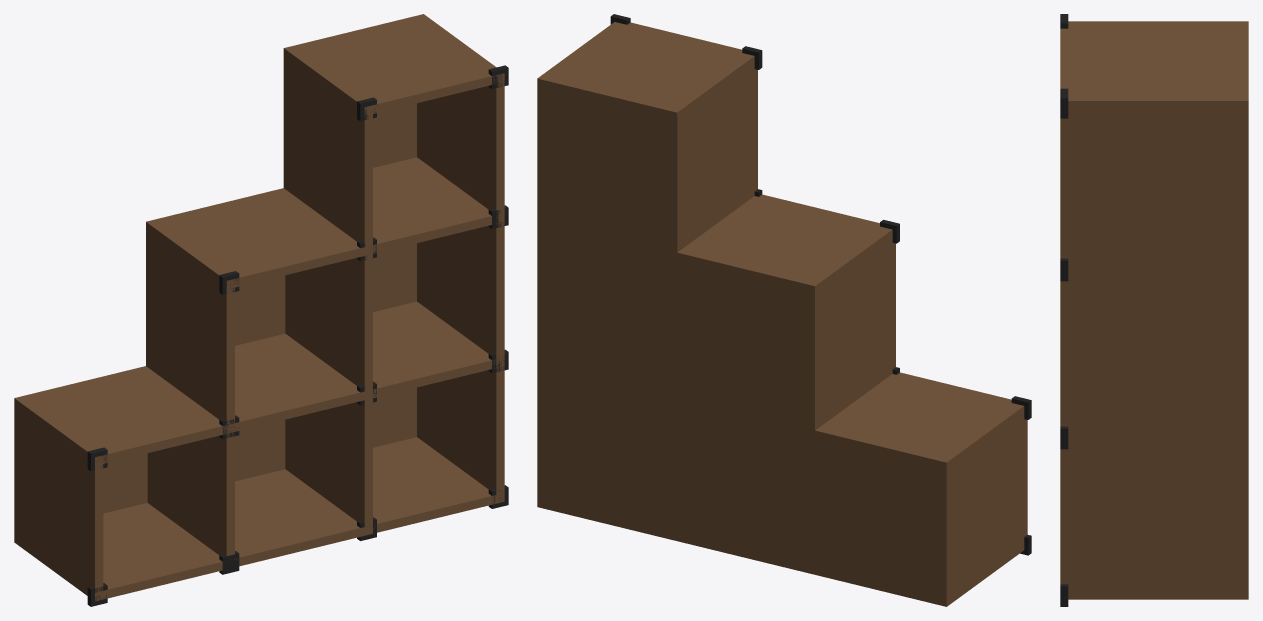
3 views of the same model, side by side, from view 1: azimuth 30°, elevation 25°; view 2: azimuth 150°, elevation 25°; view 3: azimuth 270°, elevation 25° (orthographic). The views are drawn at different scales.
Parts seen in each view (by area): view 1: 9 mid_right_vertical_panel, 10 far_right_vertical_panel, 1 bottom_base_panel, 8 left_mid_vertical_panel, 3 lower_mid_right_shelf_panel, 7 far_left_vertical_panel, 6 top_cube_top_panel, 2 left_cube_top_panel, 4 mid_cube_top_panel, 5 upper_right_shelf_panel, 13 right_column_back_panel, 12 middle_column_back_panel (+1 smaller); view 2: 13 right_column_back_panel, 12 middle_column_back_panel, 11 left_column_back_panel, 8 left_mid_vertical_panel, 9 mid_right_vertical_panel, 7 far_left_vertical_panel, 2 left_cube_top_panel, 6 top_cube_top_panel, 4 mid_cube_top_panel, 10 far_right_vertical_panel, 1 bottom_base_panel, 3 lower_mid_right_shelf_panel (+1 smaller); view 3: 10 far_right_vertical_panel, 6 top_cube_top_panel, 3 lower_mid_right_shelf_panel, 1 bottom_base_panel, 5 upper_right_shelf_panel, 13 right_column_back_panel, 9 mid_right_vertical_panel, 26 connector_row3_2.
Boxes of the visible parts, <box> form: 9 mid_right_vertical_panel: <box>283,47,372,535</box>; 10 far_right_vertical_panel: <box>417,15,504,503</box>; 1 bottom_base_panel: <box>14,437,504,601</box>; 8 left_mid_vertical_panel: <box>146,220,234,556</box>; 3 lower_mid_right_shelf_panel: <box>233,301,504,432</box>; 7 far_left_vertical_panel: <box>14,396,103,600</box>; 6 top_cube_top_panel: <box>286,14,504,115</box>; 2 left_cube_top_panel: <box>14,366,232,465</box>; 4 mid_cube_top_panel: <box>155,188,368,288</box>; 5 upper_right_shelf_panel: <box>367,157,504,254</box>; 13 right_column_back_panel: <box>292,14,424,447</box>; 12 middle_column_back_panel: <box>154,188,285,481</box>; 13 right_column_back_panel: <box>537,77,674,540</box>; 12 middle_column_back_panel: <box>675,251,811,564</box>; 11 left_column_back_panel: <box>812,431,948,606</box>; 8 left_mid_vertical_panel: <box>806,227,895,574</box>; 9 mid_right_vertical_panel: <box>669,55,757,539</box>; 7 far_left_vertical_panel: <box>938,404,1027,606</box>; 2 left_cube_top_panel: <box>810,372,1024,470</box>; 6 top_cube_top_panel: <box>537,22,752,120</box>; 4 mid_cube_top_panel: <box>675,194,887,291</box>; 10 far_right_vertical_panel: <box>537,22,620,506</box>; 1 bottom_base_panel: <box>537,498,1024,606</box>; 3 lower_mid_right_shelf_panel: <box>537,363,806,436</box>; 10 far_right_vertical_panel: <box>1060,96,1248,599</box>; 6 top_cube_top_panel: <box>1060,22,1248,110</box>; 3 lower_mid_right_shelf_panel: <box>1068,431,1248,441</box>; 1 bottom_base_panel: <box>1068,589,1248,599</box>; 5 upper_right_shelf_panel: <box>1068,263,1248,273</box>; 13 right_column_back_panel: <box>1244,24,1248,597</box>; 9 mid_right_vertical_panel: <box>1068,21,1248,26</box>; 26 connector_row3_2: <box>1060,88,1068,118</box>.
Bounding box in the file's own units: 0.9398 × 0.9398 × 0.315.
